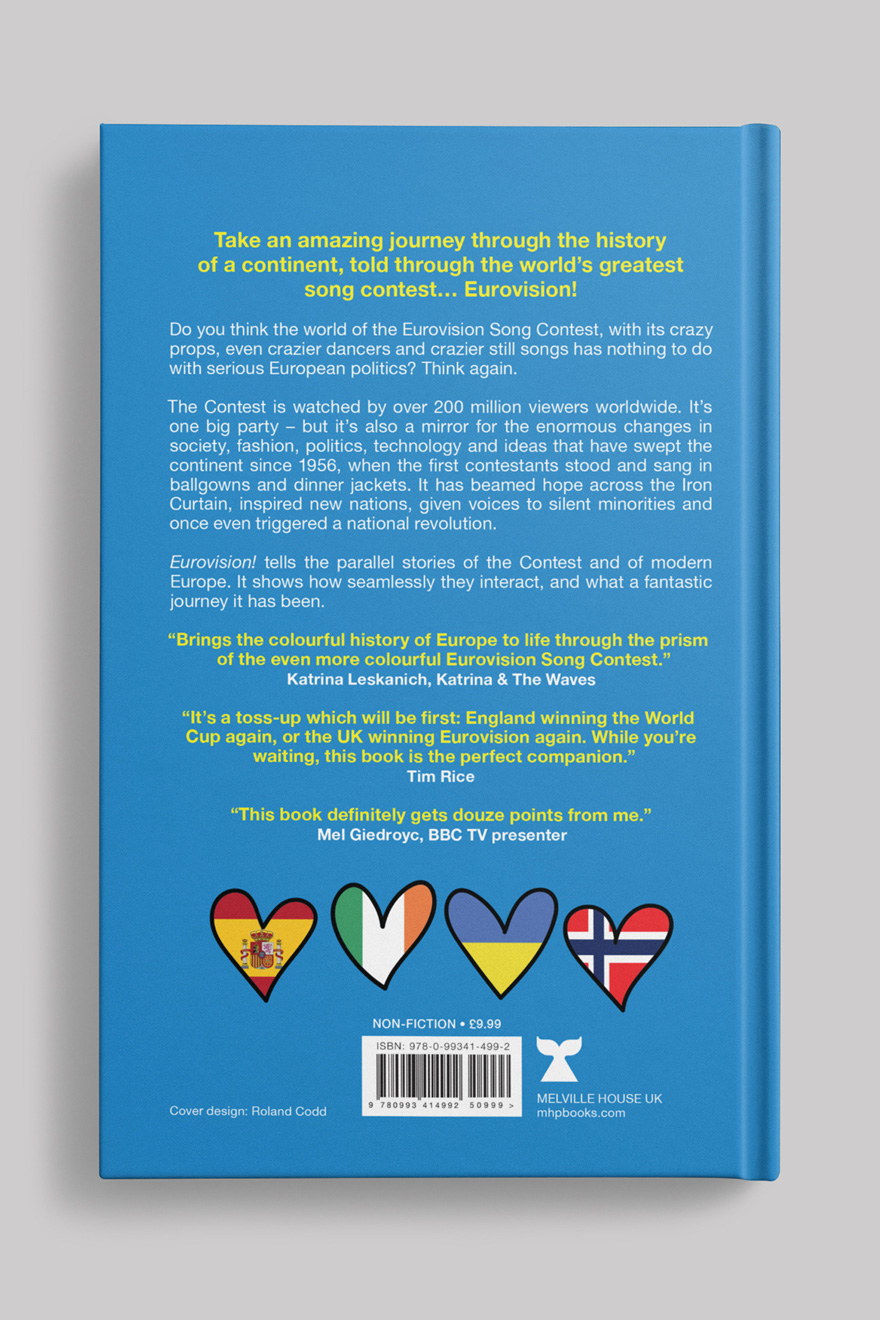barcode: (356, 1044, 522, 1117)
